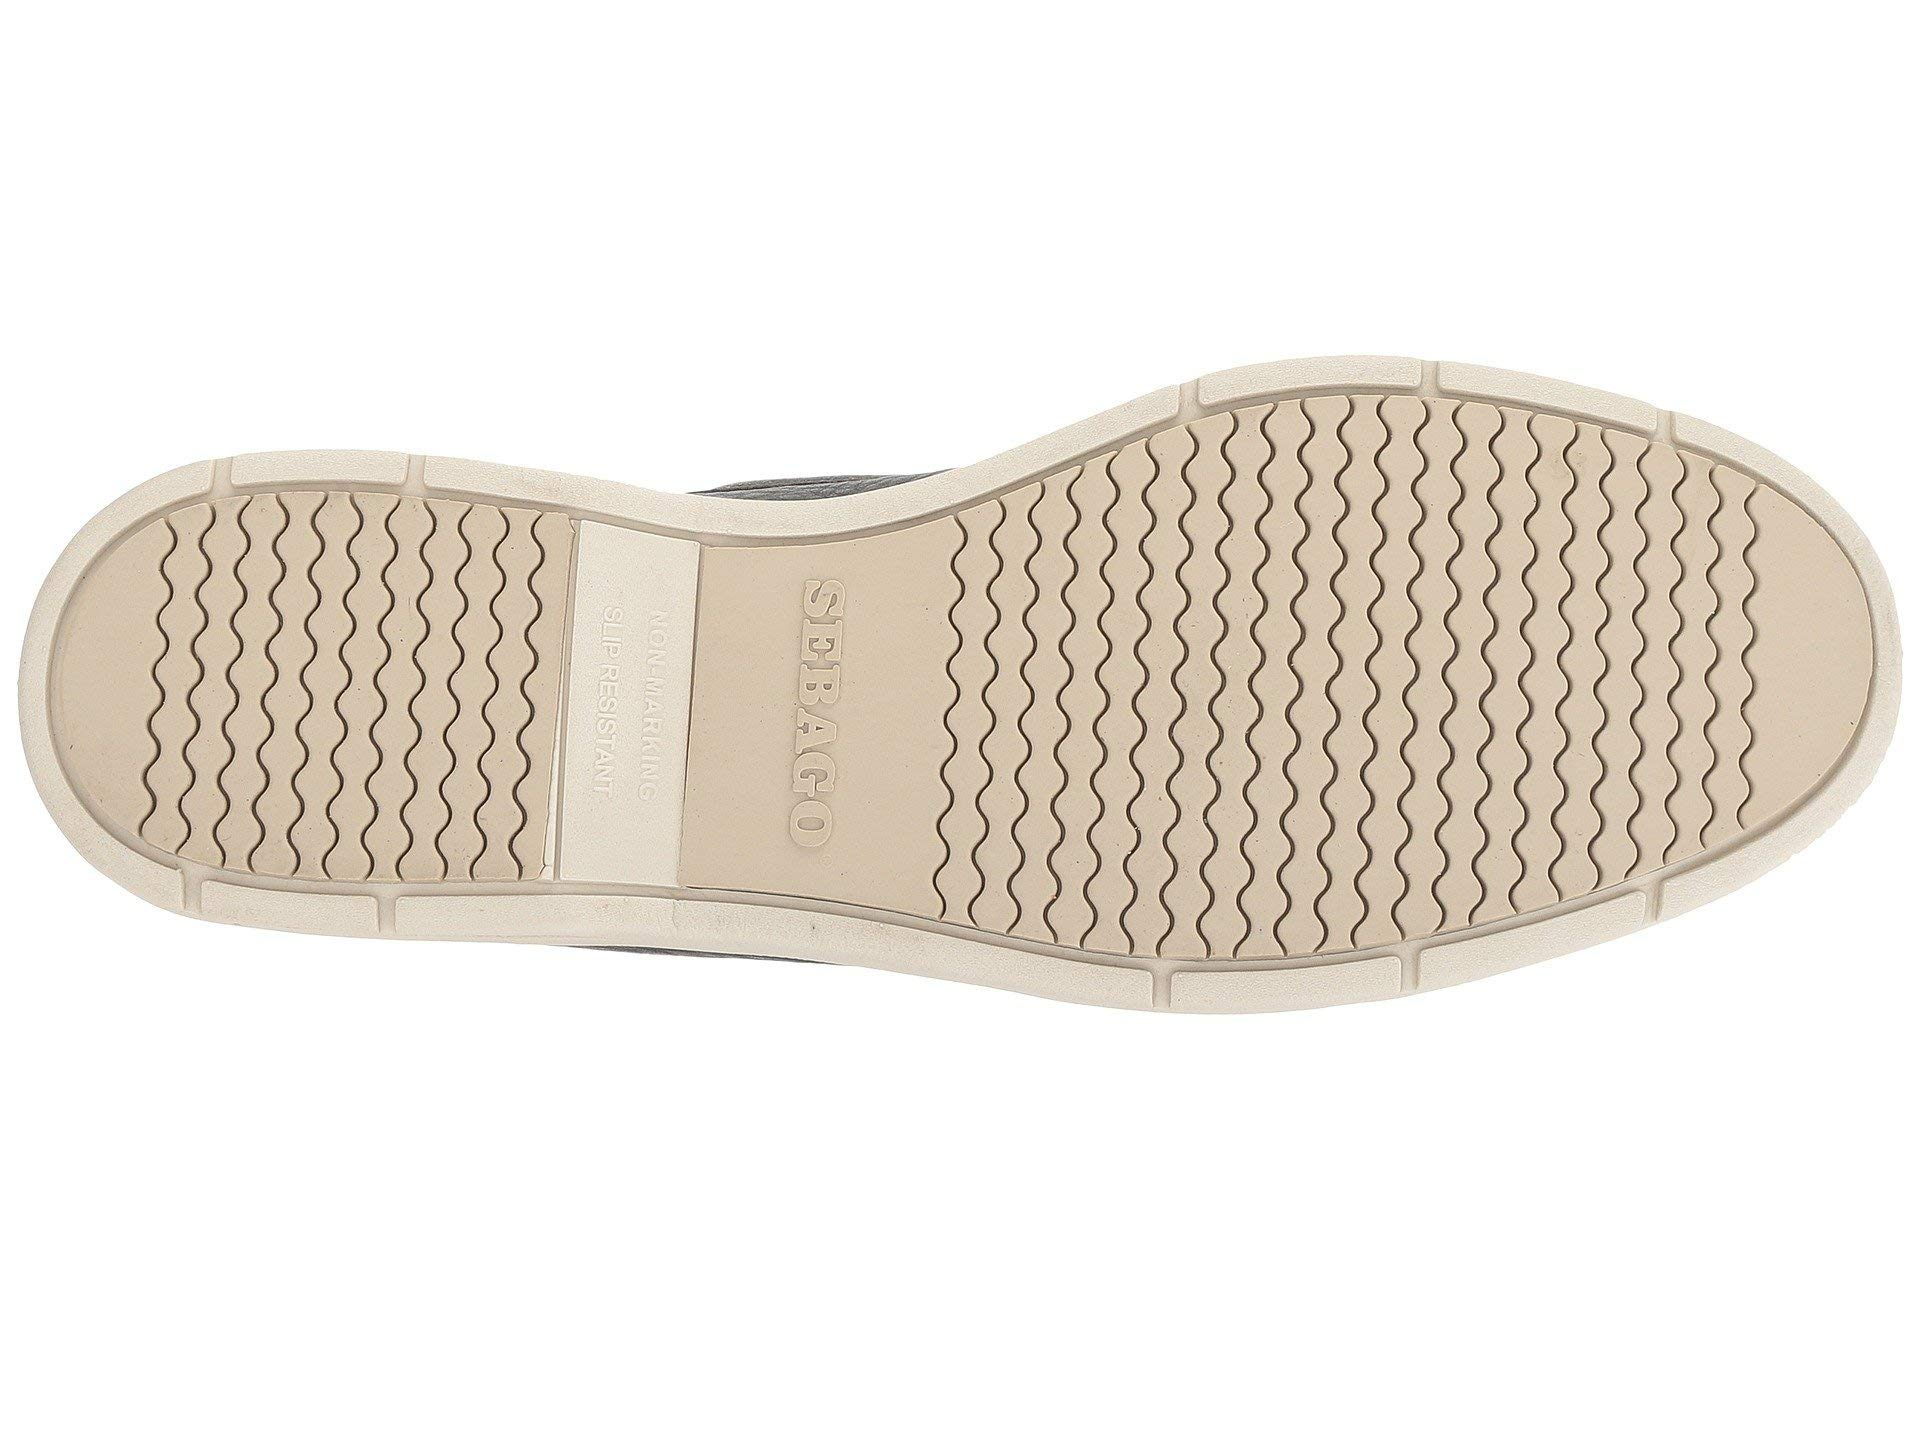chevron: (993, 517, 1421, 926), (1436, 445, 1773, 799), (160, 535, 485, 870)
circle: (691, 551, 934, 865)
quad: (206, 428, 426, 532)
text: (691, 551, 934, 865)
